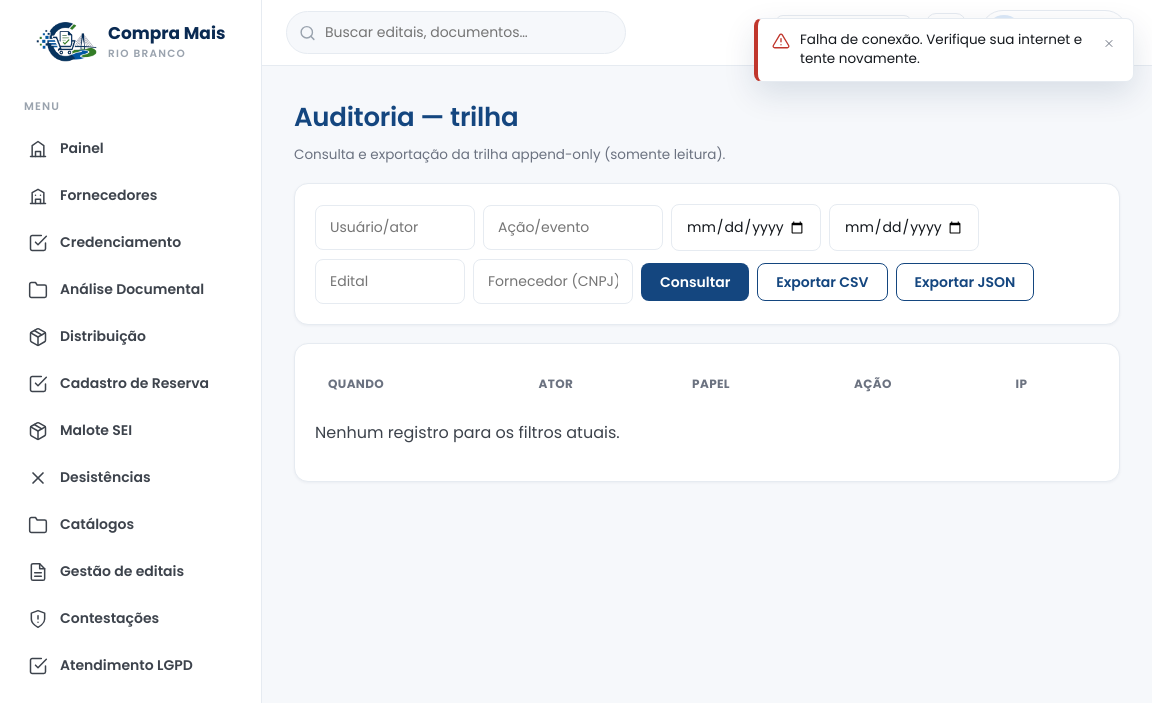
Auditoria — consulta e exportação › consulta filtrada exibe registros
This screenshot has width=1152, height=703.
Type "DocumentoReprovado" into the field with test id "evento" at [573, 228], box [483,205,663,250]
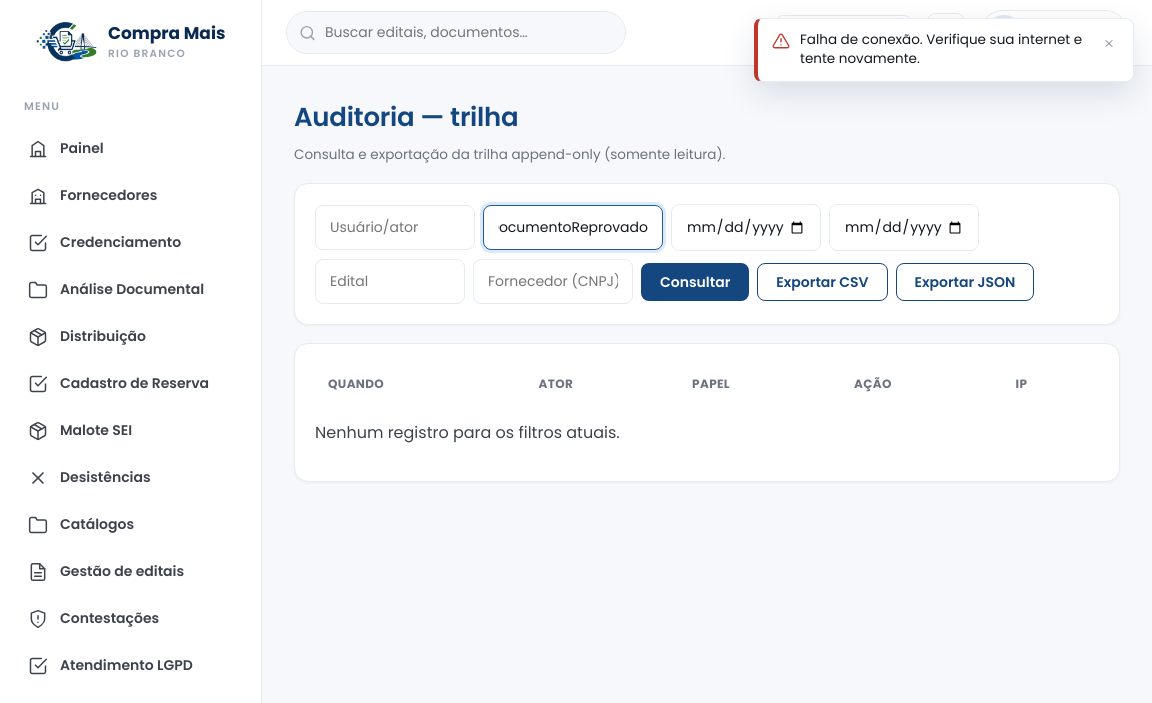
Click the button with test id "consultar" at [695, 282], box [641,263,749,301]
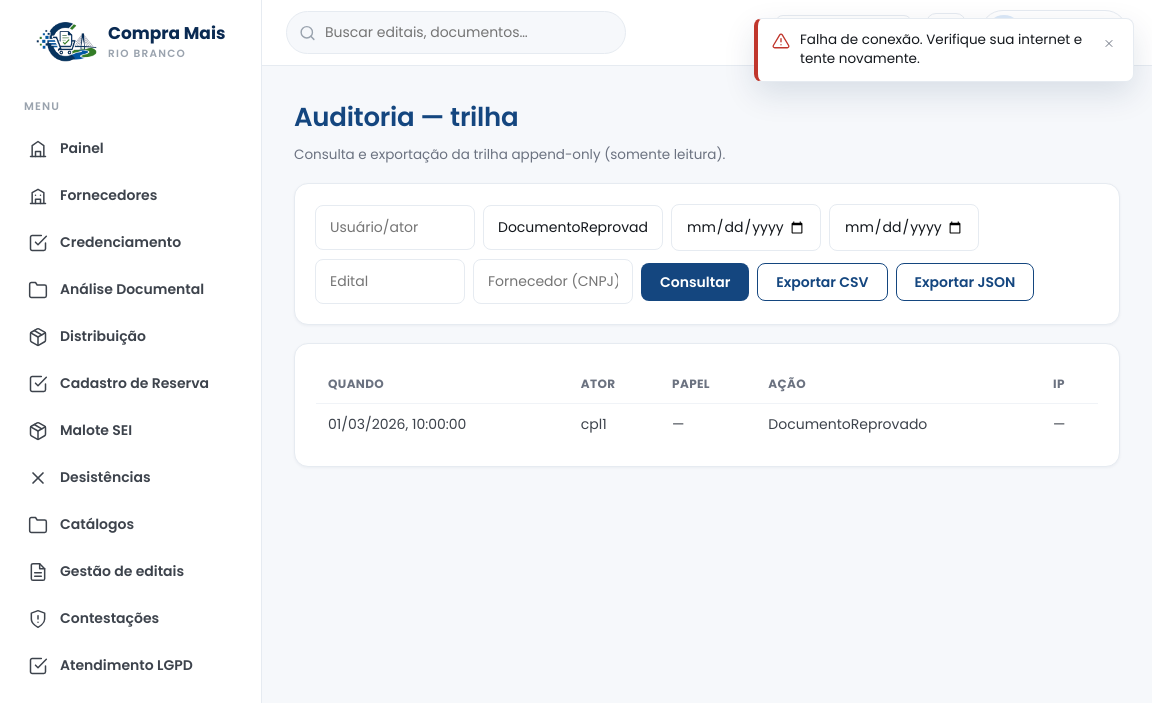
Expected: the number of rows with test id "registro" is 1, [316,404,1099,446]
